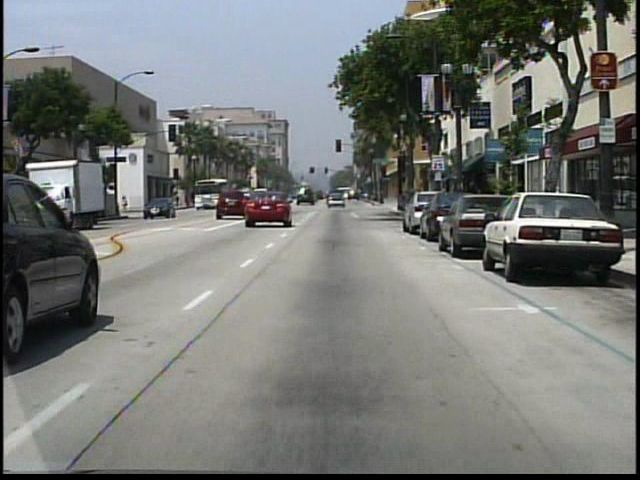person: (121, 196, 131, 217)
